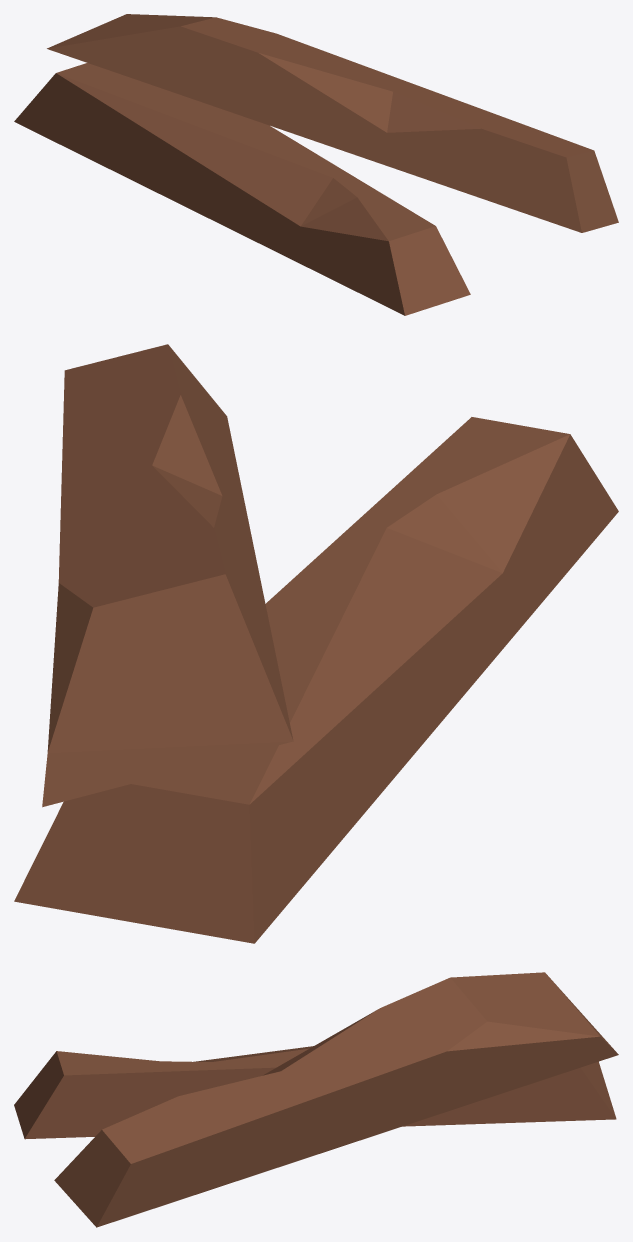
The model's file is LPWarPack_FireWood1.fbx.
3 renders of one model, top to bottom at view 1: azimuth 30°, elevation 25°; view 2: azimuth 150°, elevation 25°; view 3: azimuth 270°, elevation 25°, orthographic. The views are drawn at different scales.
Parts seen in each view (by area): view 1: FireWood1; view 2: FireWood1; view 3: FireWood1.
Part boxes in pixels (left/top/right/bottom): FireWood1: left=14, top=14, right=618, bottom=315; FireWood1: left=14, top=344, right=618, bottom=943; FireWood1: left=14, top=972, right=618, bottom=1227.
Size of the model in its own units: 45.9 by 16.05 by 69.8.
